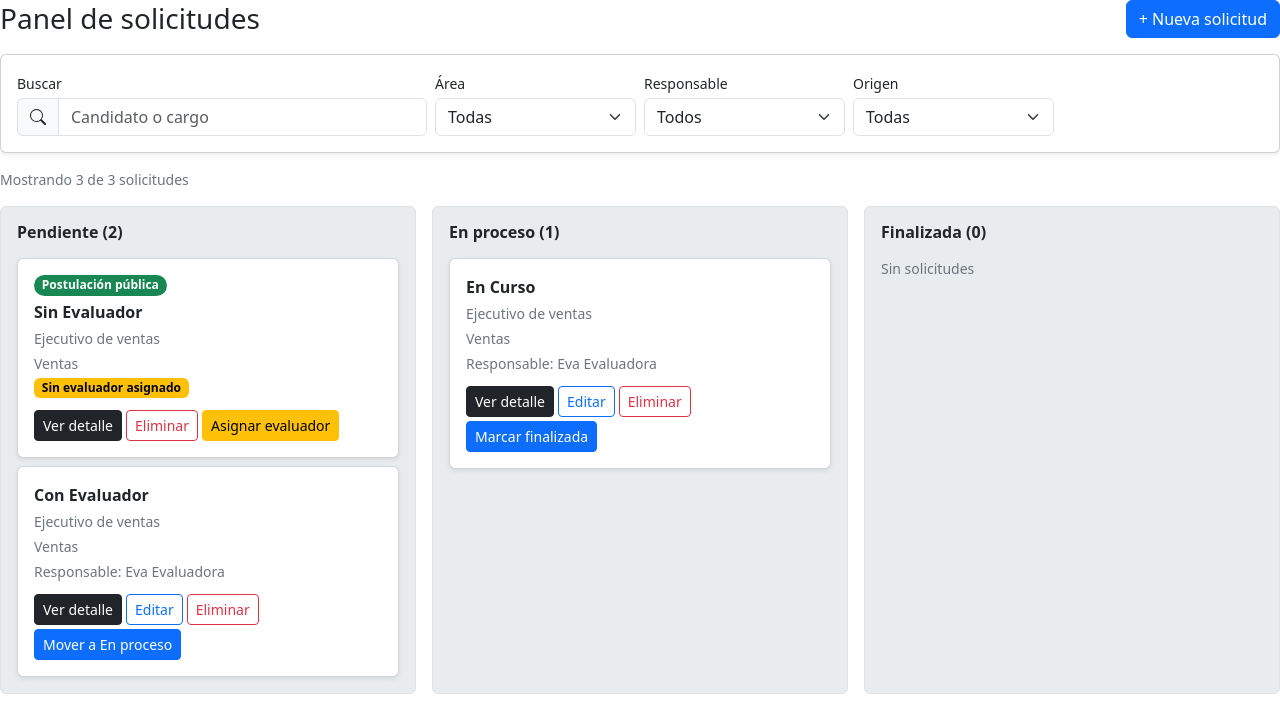
Test: Panel (Kanban) › eliminar (admin) › si el backend falla, muestra el error y conserva la tarjeta
Expected: the heading "Panel de solicitudes" is shown, [0,2,260,36]
What coordinates should you click on to do the following:
click the button "Eliminar" below "Con Evaluador"
I would click on:
 (223, 609)
Its box is [187,594,259,625].
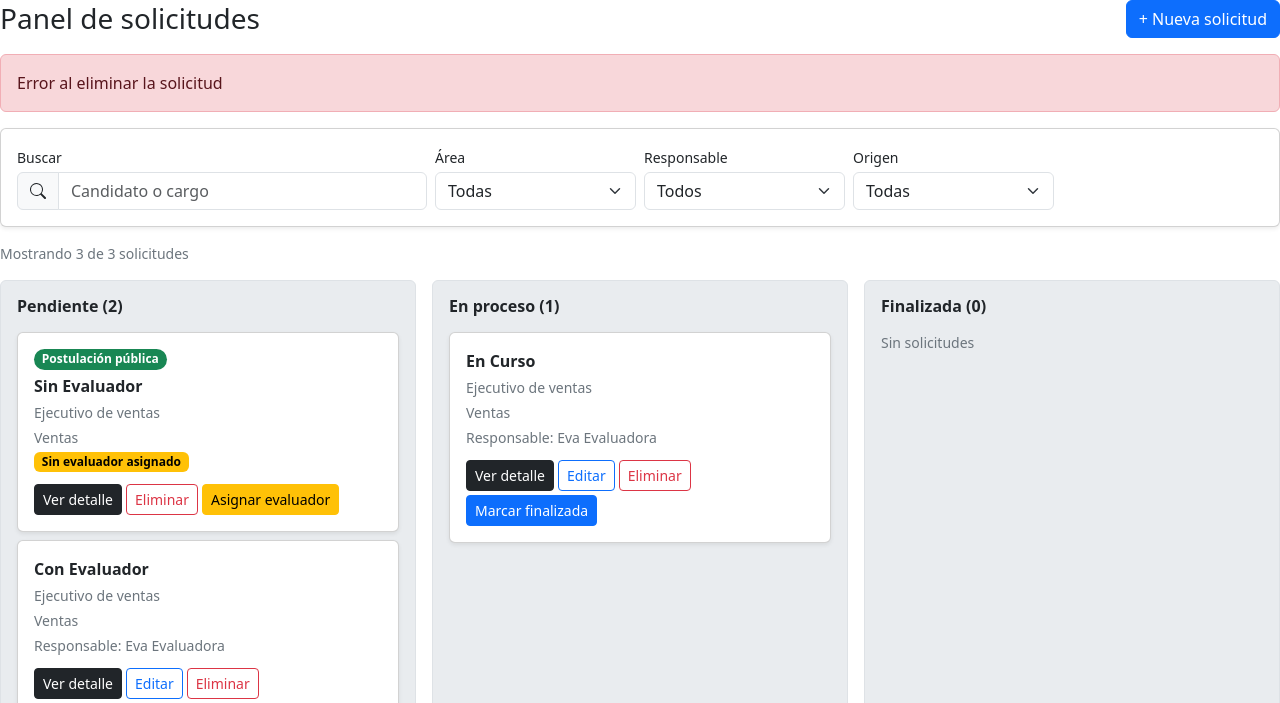
Expected: the link "Con Evaluador" is shown, [34,558,149,580]
Expected: the text "Error al eliminar la solicitud" is shown, [0,54,1279,112]
